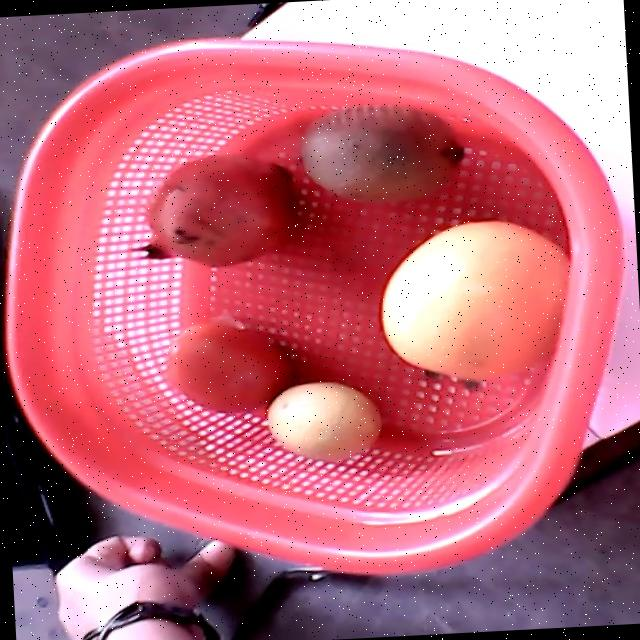kiwi: (302, 104, 464, 201)
lemon: (267, 382, 381, 459)
orange: (379, 219, 570, 379)
pomegranate: (142, 154, 294, 266)
tomato: (165, 316, 292, 415)
